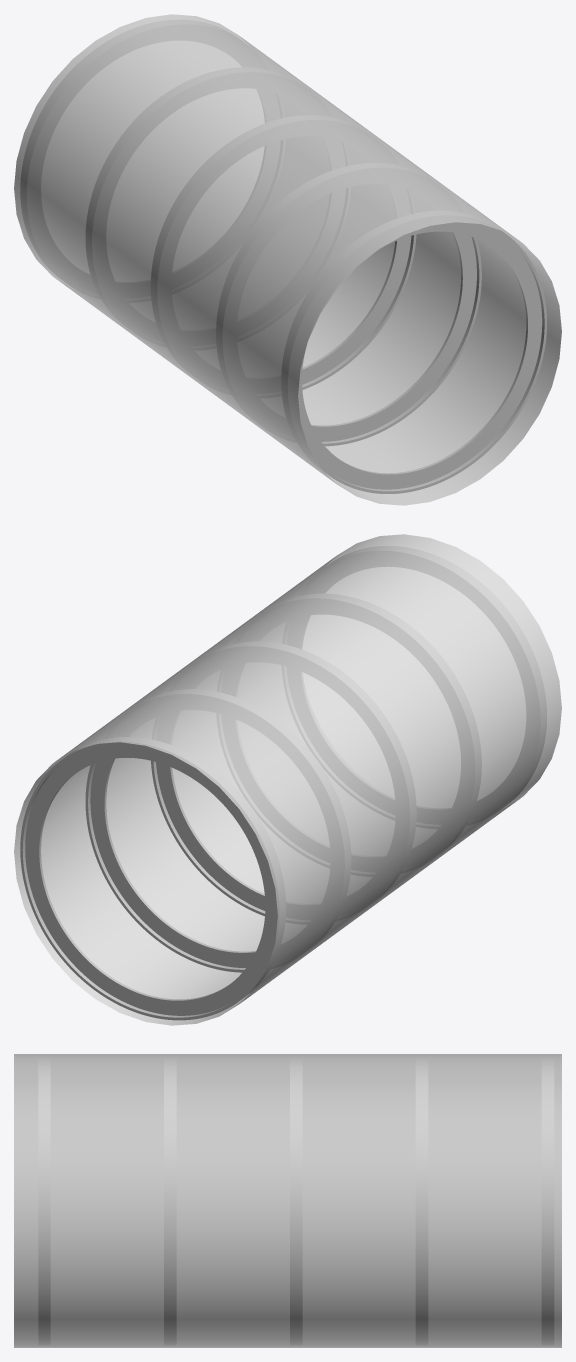
Rendered from monocoque.glb.
3 views of the same model, one above another, from view 1: azimuth 30°, elevation 25°; view 2: azimuth 150°, elevation 25°; view 3: azimuth 270°, elevation 25° (orthographic). The views are drawn at different scales.
Parts seen in each view (by area): view 1: Cylinder, frame_5, frame_4, frame_3, frame_1, frame_2; view 2: Cylinder, frame_1, frame_2, frame_3, frame_4, frame_5; view 3: Cylinder, frame_1, frame_2, frame_3, frame_4, frame_5.
Boxes of the visible parts, x1=… form: Cylinder: x1=14, y1=14, x2=561, y2=505; frame_5: x1=282, y1=211, x2=546, y2=493; frame_4: x1=216, y1=163, x2=481, y2=446; frame_3: x1=151, y1=115, x2=416, y2=397; frame_1: x1=21, y1=20, x2=285, y2=302; frame_2: x1=86, y1=68, x2=350, y2=349; Cylinder: x1=14, y1=534, x2=561, y2=1025; frame_1: x1=20, y1=737, x2=285, y2=1020; frame_2: x1=85, y1=689, x2=350, y2=972; frame_3: x1=151, y1=642, x2=415, y2=924; frame_4: x1=217, y1=594, x2=481, y2=876; frame_5: x1=282, y1=546, x2=546, y2=828; Cylinder: x1=14, y1=1054, x2=561, y2=1347; frame_1: x1=542, y1=1057, x2=553, y2=1344; frame_2: x1=416, y1=1057, x2=427, y2=1344; frame_3: x1=290, y1=1057, x2=301, y2=1344; frame_4: x1=164, y1=1057, x2=175, y2=1344; frame_5: x1=39, y1=1057, x2=49, y2=1344.
Size of the model in its own units: 236 by 236 by 439.
Materials: 2 (1 with a texture image).
